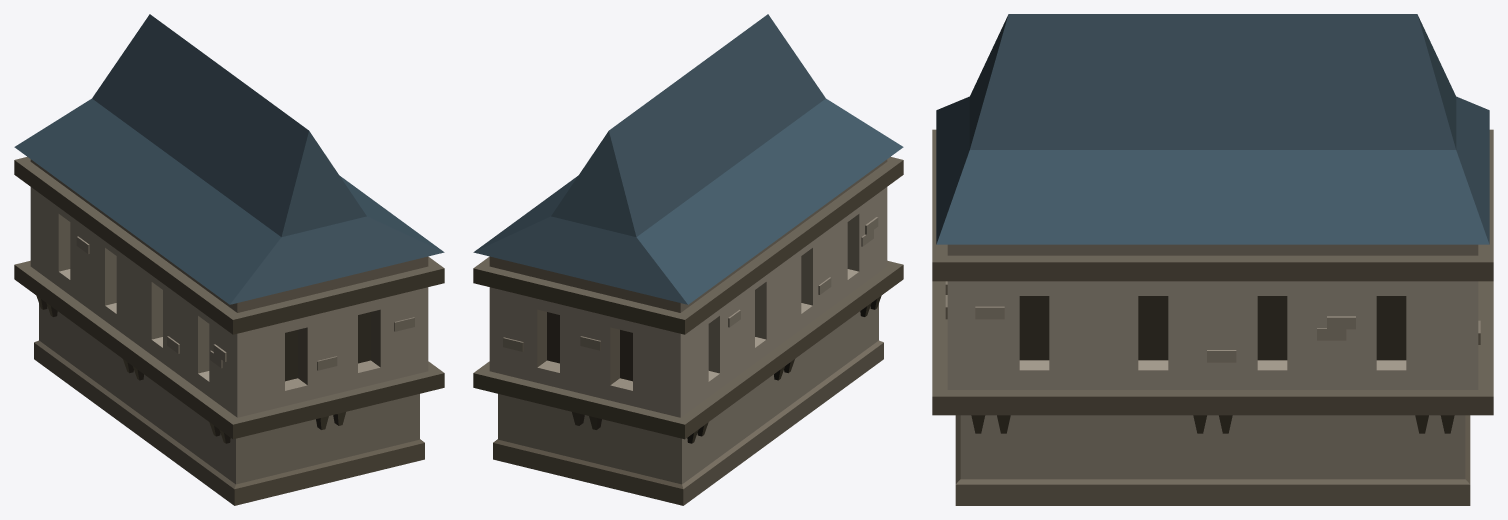
Rendered from SF_Bld_Castle_Keep_03.fbx.
3 renders of one model, left to right at view 1: azimuth 30°, elevation 25°; view 2: azimuth 150°, elevation 25°; view 3: azimuth 270°, elevation 25°, orthographic. The views are drawn at different scales.
Visible parts, largest first — view 1: SF_Bld_Castle_Keep_03; view 2: SF_Bld_Castle_Keep_03; view 3: SF_Bld_Castle_Keep_03.
Boxes of the visible parts, x1,y1,x2,y2 form: SF_Bld_Castle_Keep_03: [14, 14, 444, 505]; SF_Bld_Castle_Keep_03: [473, 14, 903, 505]; SF_Bld_Castle_Keep_03: [932, 14, 1493, 505].
Bounding box in the file's own units: 13.55 × 20.3 × 23.87.
